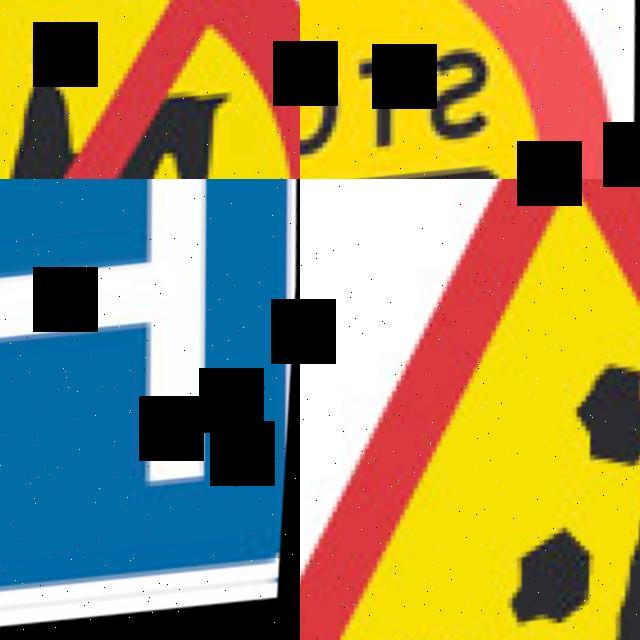116: (300, 0, 640, 179)
178: (0, 179, 300, 640)
35: (0, 0, 300, 179)
falling rocks -from- left: (300, 179, 640, 640)
